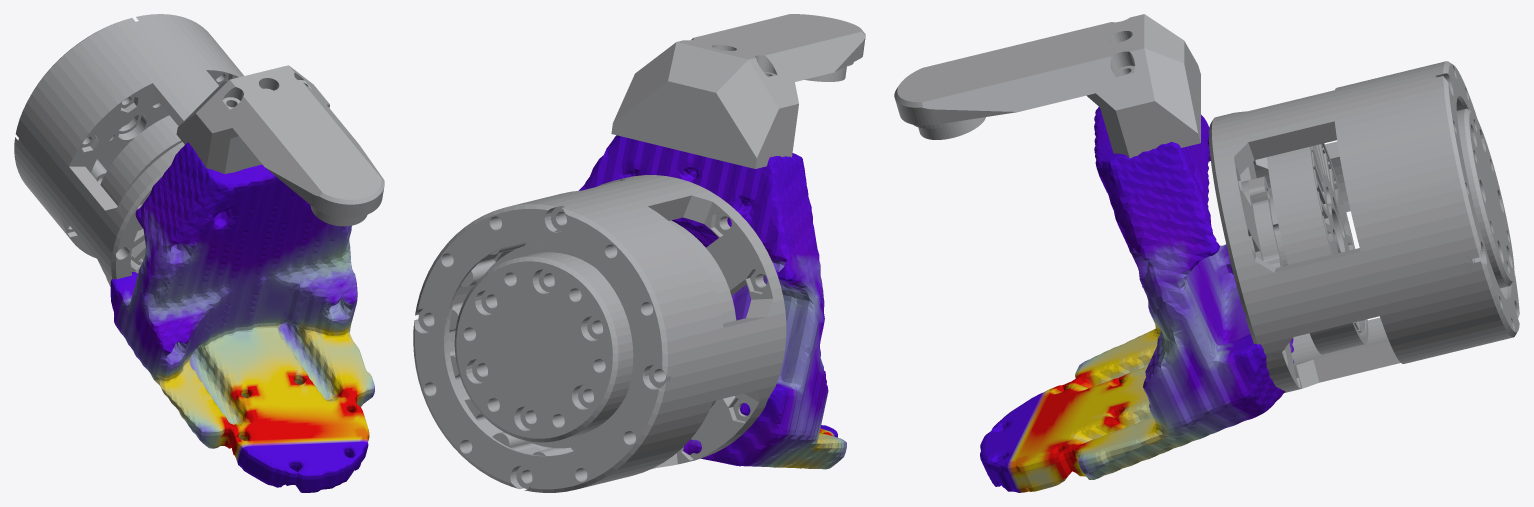
File: arm_left_elbow_pitch_opt.glb
3 renders of one model, left to right at view 1: azimuth 30°, elevation 25°; view 2: azimuth 150°, elevation 25°; view 3: azimuth 270°, elevation 25°, orthographic. The views are drawn at different scales.
Parts seen in each view (by area): view 1: arm_left_elbow_pitch_visual.stl; view 2: arm_left_elbow_pitch_visual.stl; view 3: arm_left_elbow_pitch_visual.stl.
Boxes of the visible parts, x1,y1,x2,y2 form: arm_left_elbow_pitch_visual.stl: (14,14,384,492); arm_left_elbow_pitch_visual.stl: (413,14,865,492); arm_left_elbow_pitch_visual.stl: (894,14,1519,492).
Bounding box in the file's own units: 0.0709 × 0.1205 × 0.1539.
